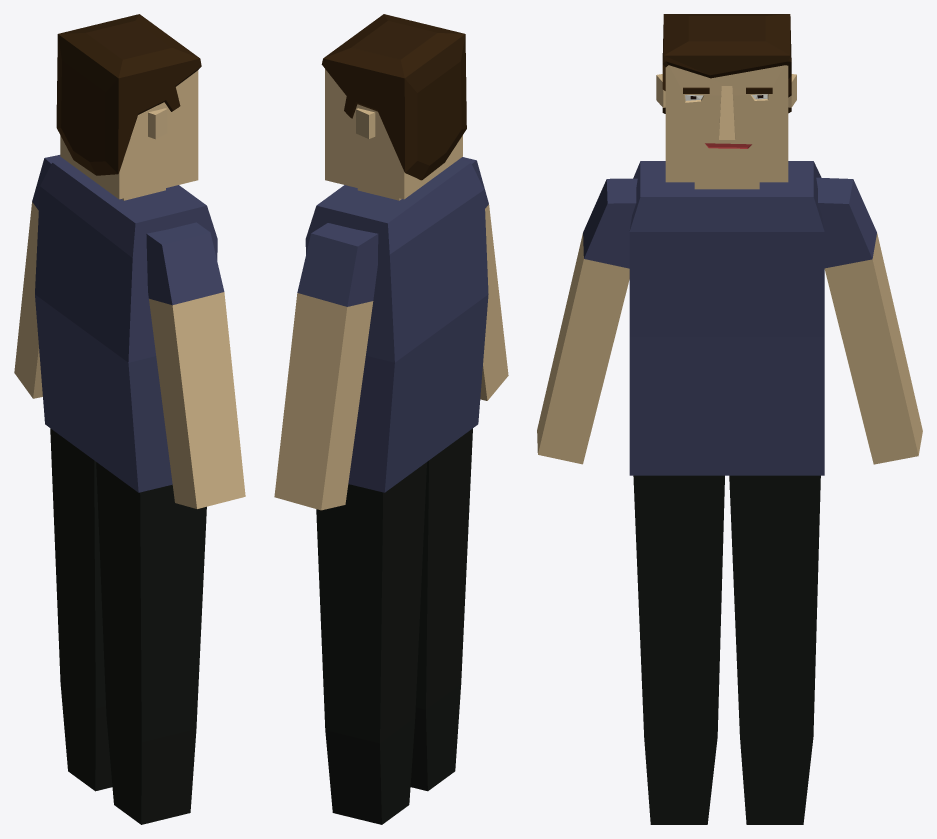
The model's file is person.glb.
3 renders of one model, left to right at view 1: azimuth 30°, elevation 25°; view 2: azimuth 150°, elevation 25°; view 3: azimuth 270°, elevation 25°, orthographic. The views are drawn at different scales.
Parts seen in each view (by area): view 1: Cube; view 2: Cube; view 3: Cube.
Boxes of the visible parts, box(x1,y1,x2,y2) form: Cube: box(14, 14, 245, 824); Cube: box(274, 14, 508, 824); Cube: box(537, 14, 922, 824).
Bounding box in the file's own units: 1.41 × 10.19 × 4.55.
